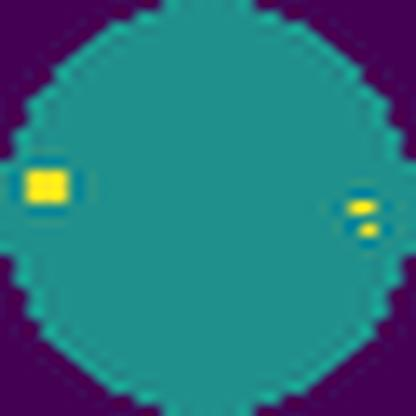Loc: (24, 165, 70, 206)
